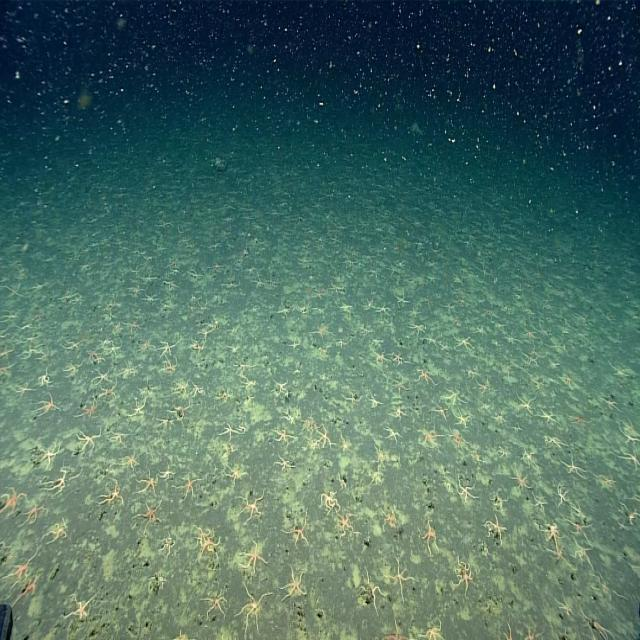brittle-stars: (232, 583, 269, 632), (285, 510, 312, 556), (580, 607, 614, 640), (202, 578, 226, 624), (9, 551, 32, 596), (420, 515, 442, 562), (332, 506, 358, 544), (362, 571, 385, 613), (240, 543, 269, 576), (0, 478, 22, 521), (300, 412, 322, 455), (454, 555, 475, 600), (101, 476, 127, 512), (289, 569, 312, 609), (194, 524, 220, 559), (47, 462, 68, 505), (79, 425, 101, 462), (564, 449, 586, 486), (23, 496, 49, 527), (19, 571, 39, 611), (65, 600, 93, 628), (220, 416, 243, 450), (226, 461, 248, 495), (139, 500, 159, 537), (441, 378, 467, 406), (20, 341, 46, 367), (382, 507, 403, 538), (492, 482, 511, 516), (111, 428, 129, 463), (321, 487, 342, 517), (489, 515, 504, 557), (422, 427, 442, 458), (184, 462, 199, 503), (621, 442, 640, 474), (106, 332, 128, 359), (125, 449, 141, 486), (392, 562, 412, 591), (368, 392, 388, 421), (574, 541, 594, 570), (61, 358, 85, 382), (184, 382, 208, 406), (275, 447, 297, 473), (34, 403, 67, 420), (454, 481, 474, 509), (544, 519, 562, 550), (48, 518, 64, 552), (144, 471, 162, 501), (36, 370, 58, 394), (160, 358, 182, 382), (244, 498, 264, 524), (14, 379, 36, 402), (570, 496, 588, 524), (519, 446, 537, 474), (40, 444, 60, 469), (318, 421, 332, 456), (553, 541, 568, 573), (543, 430, 563, 454), (0, 360, 17, 388), (518, 390, 535, 418), (556, 594, 573, 622), (622, 503, 640, 529), (477, 376, 495, 402), (423, 619, 445, 640), (130, 401, 150, 424), (445, 430, 464, 454), (520, 621, 544, 640), (159, 464, 177, 489), (104, 381, 118, 413), (541, 404, 557, 432), (277, 378, 290, 412), (190, 336, 207, 362), (200, 319, 220, 340), (159, 536, 178, 558), (214, 385, 233, 407), (455, 336, 477, 355), (345, 387, 362, 411), (525, 324, 540, 351), (64, 338, 86, 356), (270, 428, 292, 446), (416, 360, 431, 386), (93, 371, 111, 392), (406, 319, 427, 337), (554, 483, 569, 508), (78, 401, 95, 423), (601, 392, 618, 414), (90, 349, 106, 372), (526, 346, 540, 372), (381, 625, 405, 640), (457, 413, 473, 435), (141, 291, 156, 314), (142, 338, 159, 358), (0, 339, 16, 360), (433, 406, 451, 424), (564, 371, 576, 398), (391, 379, 410, 396), (141, 269, 158, 288), (394, 287, 408, 310), (393, 349, 405, 375), (344, 426, 354, 457), (363, 294, 379, 313), (520, 474, 532, 499), (537, 495, 548, 521), (236, 360, 250, 380), (158, 335, 175, 351), (388, 426, 399, 450), (162, 412, 173, 434), (496, 448, 508, 468), (280, 301, 292, 320), (160, 222, 175, 236), (210, 258, 223, 274), (378, 350, 388, 370), (251, 277, 265, 291), (316, 326, 328, 342), (394, 406, 406, 422), (122, 362, 134, 378), (334, 336, 347, 350), (164, 279, 175, 295), (130, 320, 144, 332), (209, 242, 223, 250), (445, 298, 452, 308)
